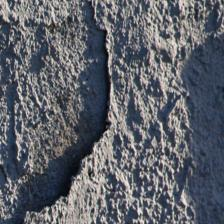Crack: (14, 3, 108, 218)
